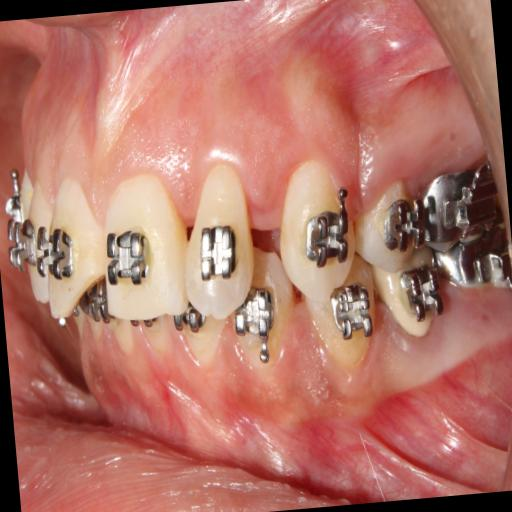correct_brace: (354, 178, 422, 267), (103, 223, 156, 301), (303, 197, 354, 271), (194, 214, 240, 288)
incorrect_brace: (174, 156, 260, 320), (381, 192, 425, 258)
